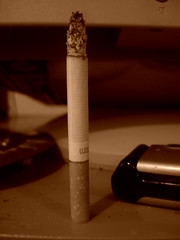cigarette: (62, 10, 97, 227)
